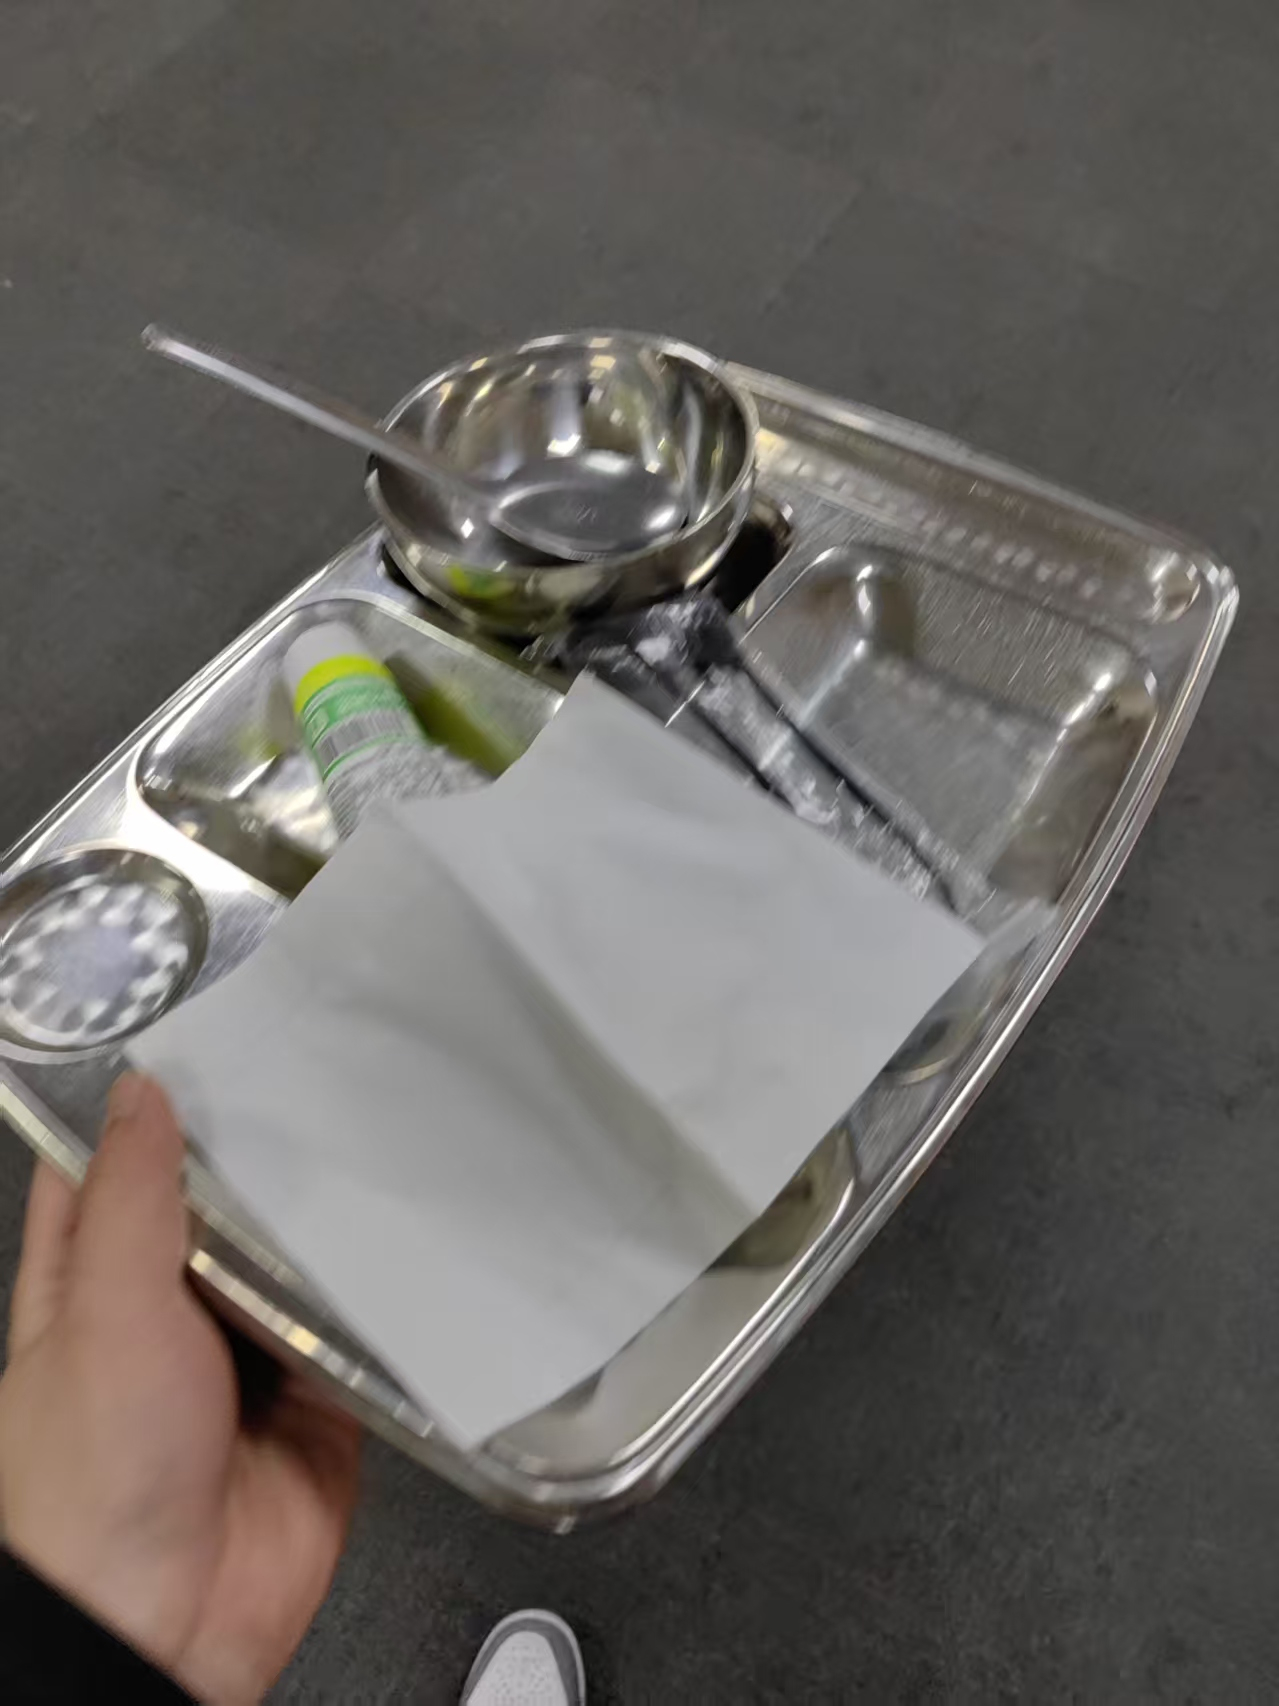mild: (267, 595, 1026, 1134)
plate: (5, 329, 1239, 1529)
tissue: (121, 667, 987, 1457)
